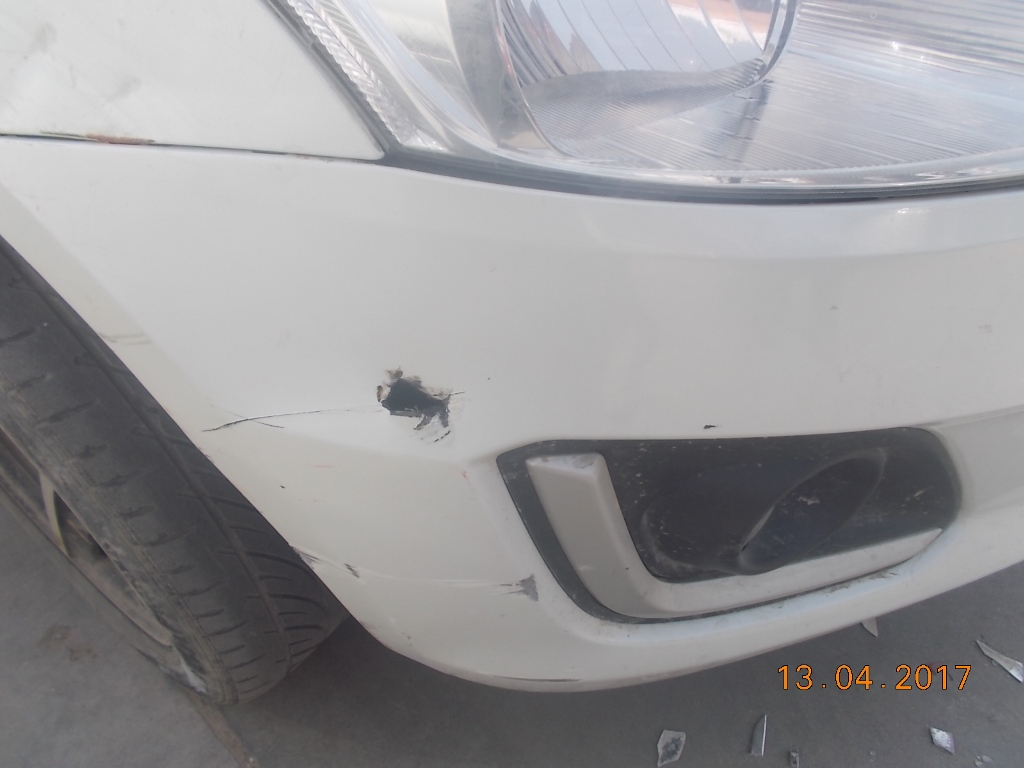Tear: (362, 361, 434, 437)
